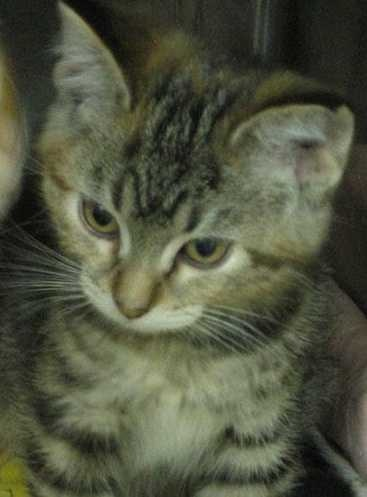Cat: (0, 2, 352, 496)
